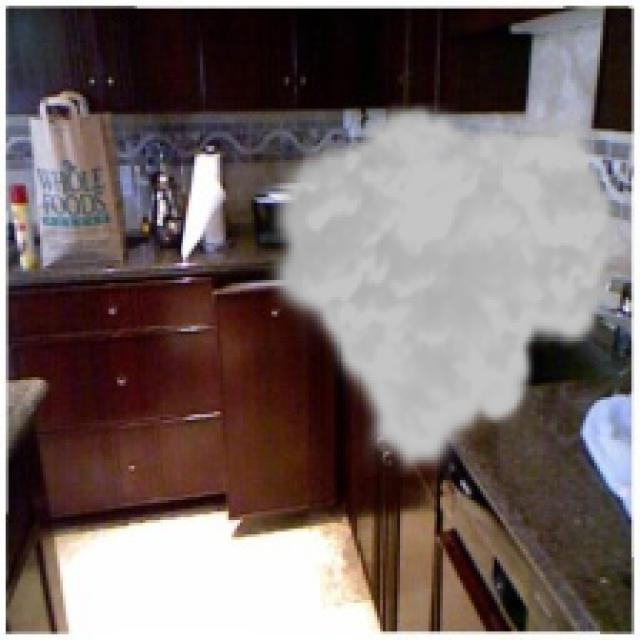Smoke: (260, 100, 623, 480)
